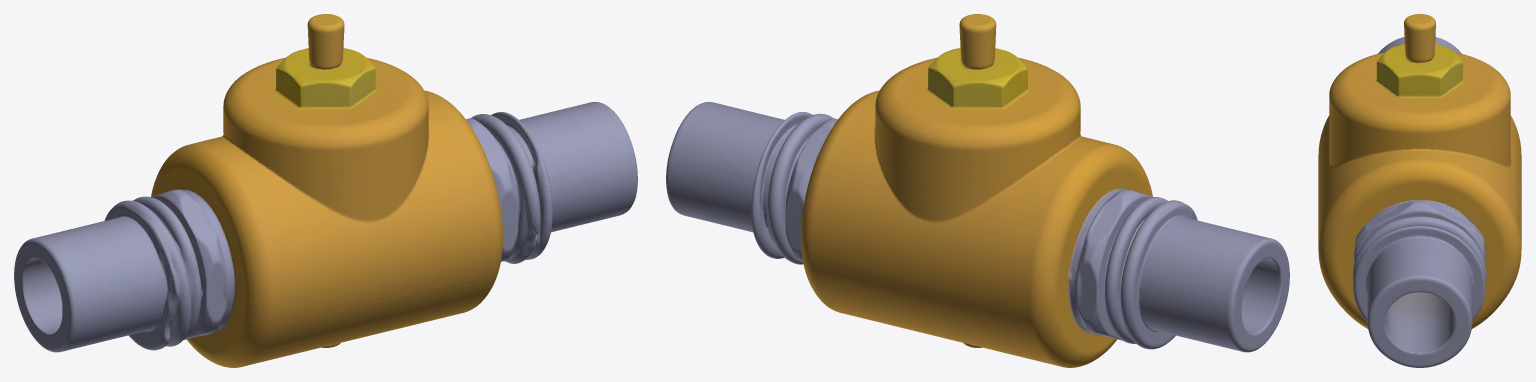
The model's file is ValveBody.glb.
The picture shows the model from 3 angles, left to right: view 1: azimuth 30°, elevation 25°; view 2: azimuth 150°, elevation 25°; view 3: azimuth 270°, elevation 25°; orthographic projection. The views are drawn at different scales.
Parts seen in each view (by area): view 1: tripo_node_f7687ef6-a5ec-4e2a-aa56-ac63b20e5743; view 2: tripo_node_f7687ef6-a5ec-4e2a-aa56-ac63b20e5743; view 3: tripo_node_f7687ef6-a5ec-4e2a-aa56-ac63b20e5743.
Part boxes in pixels (x1,y1,x2,y2): tripo_node_f7687ef6-a5ec-4e2a-aa56-ac63b20e5743: (14, 14, 637, 367); tripo_node_f7687ef6-a5ec-4e2a-aa56-ac63b20e5743: (666, 14, 1289, 367); tripo_node_f7687ef6-a5ec-4e2a-aa56-ac63b20e5743: (1318, 14, 1521, 367).
Bounding box in the file's own units: 1 × 0.5436 × 0.3526.
Materials: 1 (1 with a texture image).
